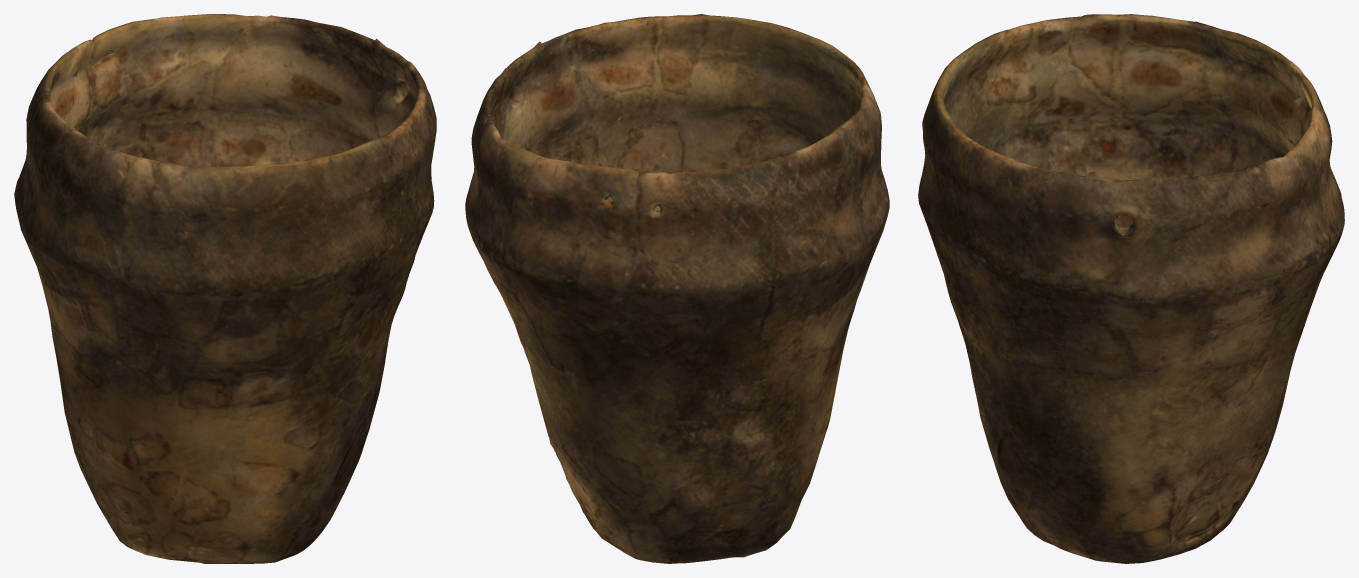
The picture shows the model from 3 angles, left to right: view 1: azimuth 30°, elevation 25°; view 2: azimuth 150°, elevation 25°; view 3: azimuth 270°, elevation 25°; orthographic projection. The views are drawn at different scales.
Parts seen in each view (by area): view 1: MY0004_low; view 2: MY0004_low; view 3: MY0004_low.
Part boxes in pixels (x1=…): MY0004_low: x1=14, y1=14, x2=436, y2=563; MY0004_low: x1=465, y1=14, x2=889, y2=563; MY0004_low: x1=918, y1=14, x2=1344, y2=563.
Size of the model in its own units: 200 by 228 by 202.
1 material, 1 textured.
